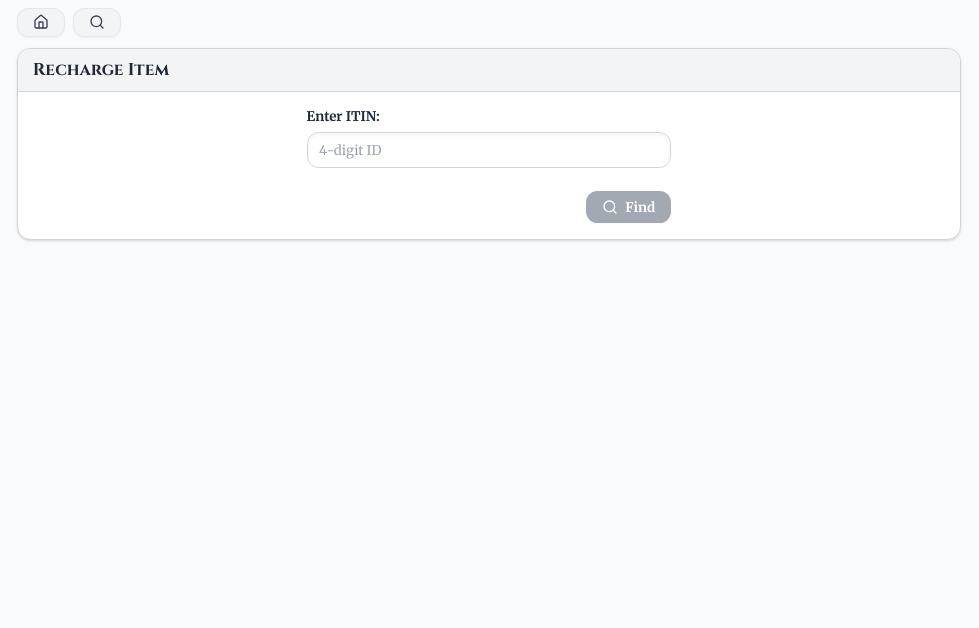
RechargeItem Page › adds 1 year and rounds to 1st of month
The width and height of the screenshot is (979, 628).
Type "1234" into the field with placeholder "4-digit ID" at coordinates (489, 150), box [307,132,671,168]
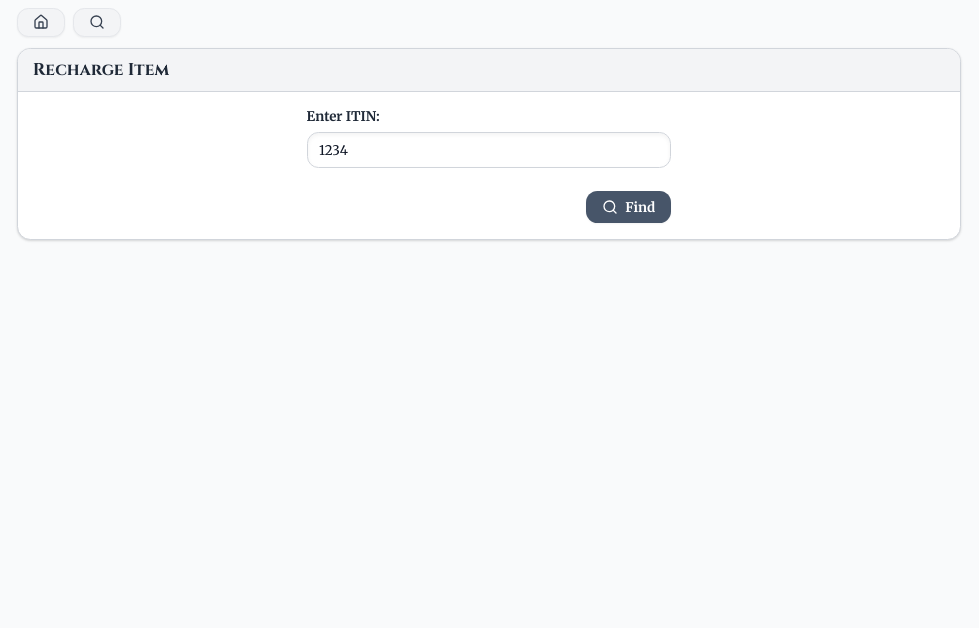
Click the button "Find" at coordinates (628, 207), box [586,191,671,223]
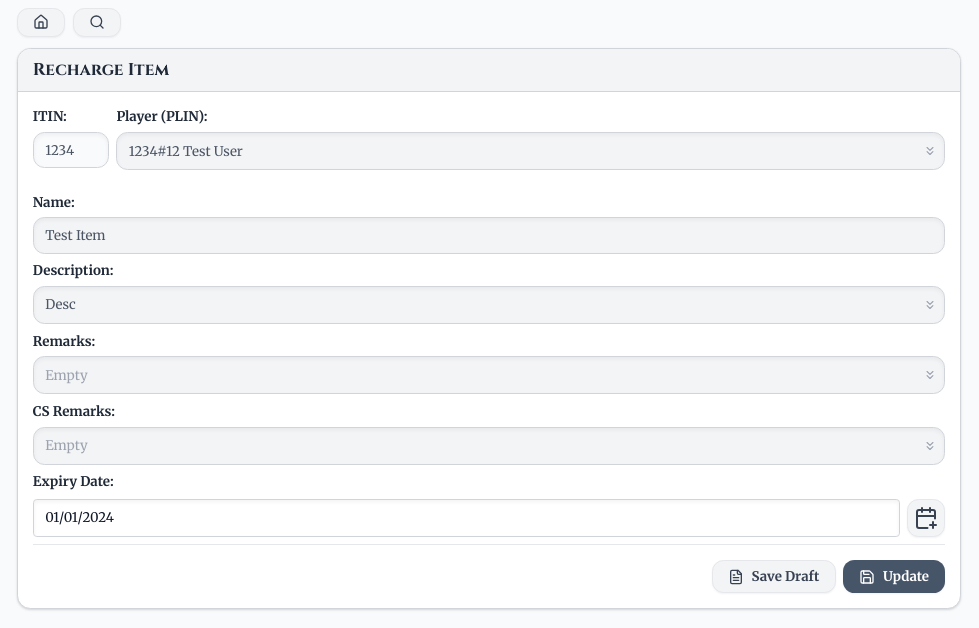
Expected: the field showing "Test Item" below "Name" is shown, [33,218,945,254]
Click the button titled "+1 Year (Round to 1st)" at coordinates (926, 518), box [907,499,945,537]
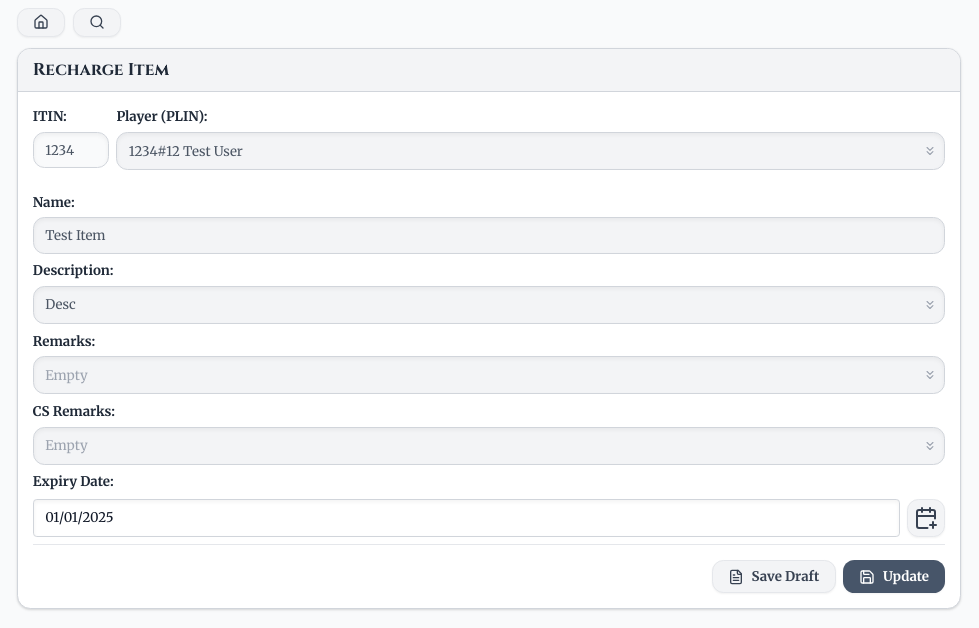
Expected: the 3rd field showing "01/01/2025" is shown
Replace the text in the 3rd field showing "01/01/2025" with "15/05/2025" at coordinates (466, 518), box [33,499,900,537]
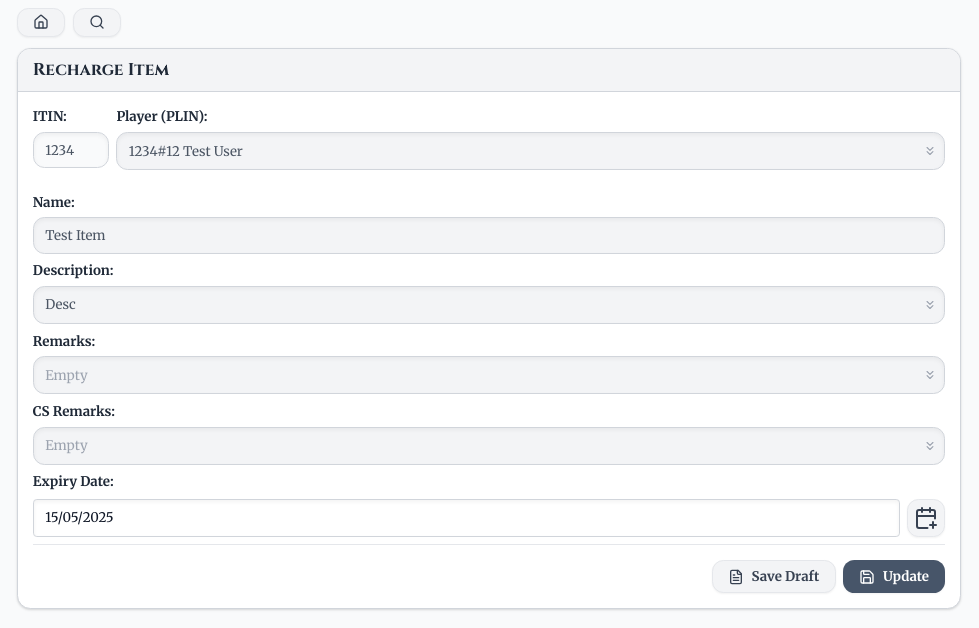
Click the button titled "+1 Year (Round to 1st)" at coordinates (926, 518), box [907,499,945,537]
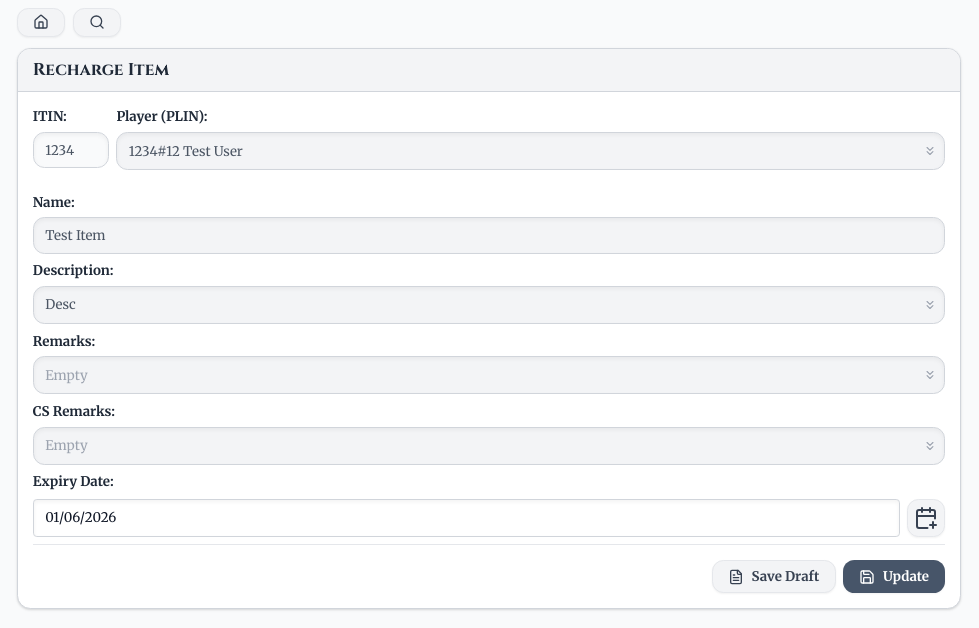
Expected: the 3rd field showing "01/06/2026" is shown, [33,499,900,537]
